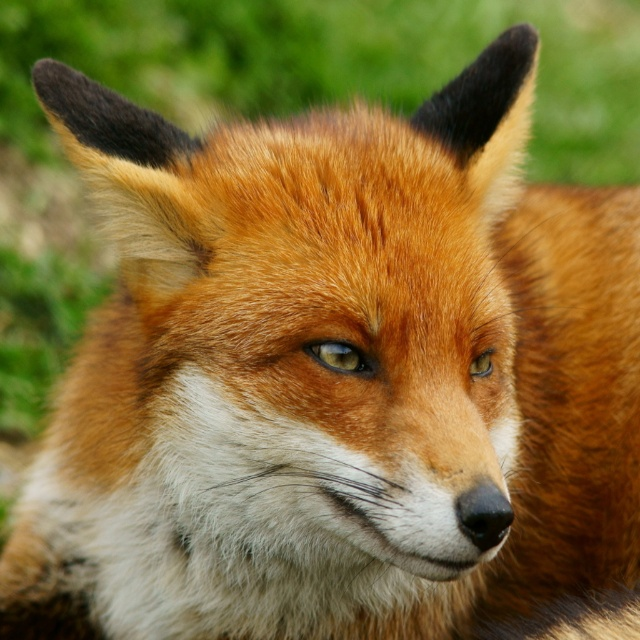Fox: (0, 22, 640, 640)
